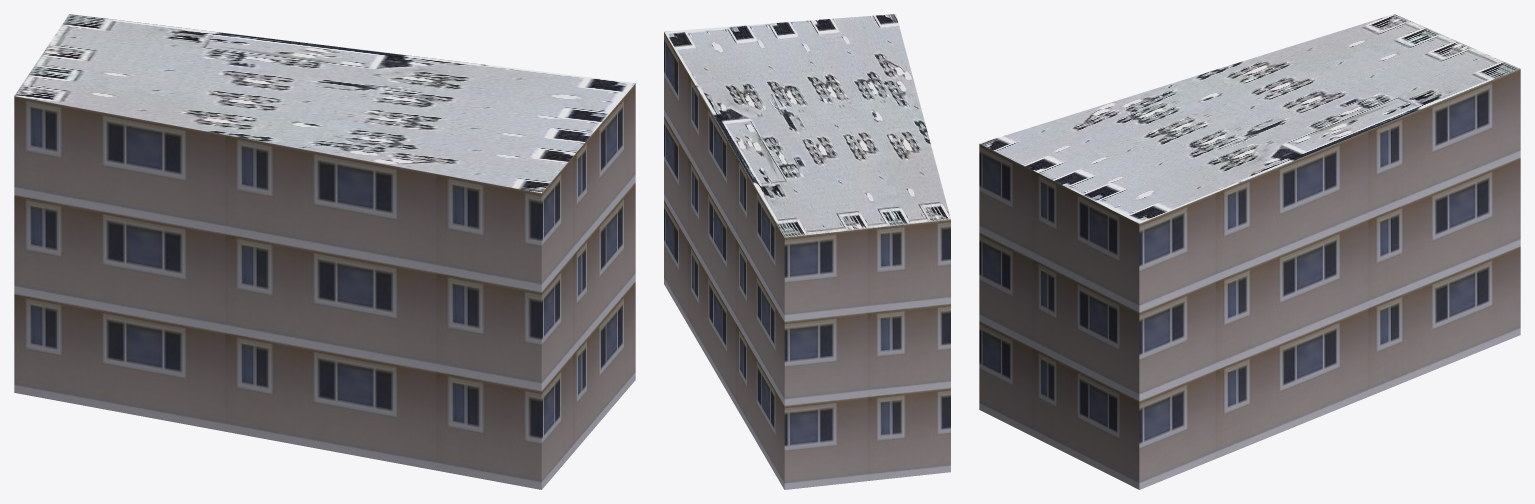
Rendered from ResTex__3955.fbx.
3 views of the same model, side by side, from view 1: azimuth 30°, elevation 25°; view 2: azimuth 150°, elevation 25°; view 3: azimuth 270°, elevation 25° (orthographic). The views are drawn at different scales.
Parts seen in each view (by area): view 1: CityEngineMaterial_21_m, CityEngineMaterial_4_m; view 2: CityEngineMaterial_21_m, CityEngineMaterial_4_m; view 3: CityEngineMaterial_21_m, CityEngineMaterial_4_m.
Boxes of the visible parts, x1=… form: CityEngineMaterial_21_m: x1=14, y1=83, x2=635, y2=489; CityEngineMaterial_4_m: x1=14, y1=14, x2=635, y2=193; CityEngineMaterial_21_m: x1=664, y1=32, x2=950, y2=489; CityEngineMaterial_4_m: x1=664, y1=14, x2=950, y2=237; CityEngineMaterial_21_m: x1=979, y1=69, x2=1520, y2=489; CityEngineMaterial_4_m: x1=979, y1=14, x2=1520, y2=223.
Size of the model in its own units: 15.22 by 9 by 16.6.
Materials: 2 (2 with a texture image).
